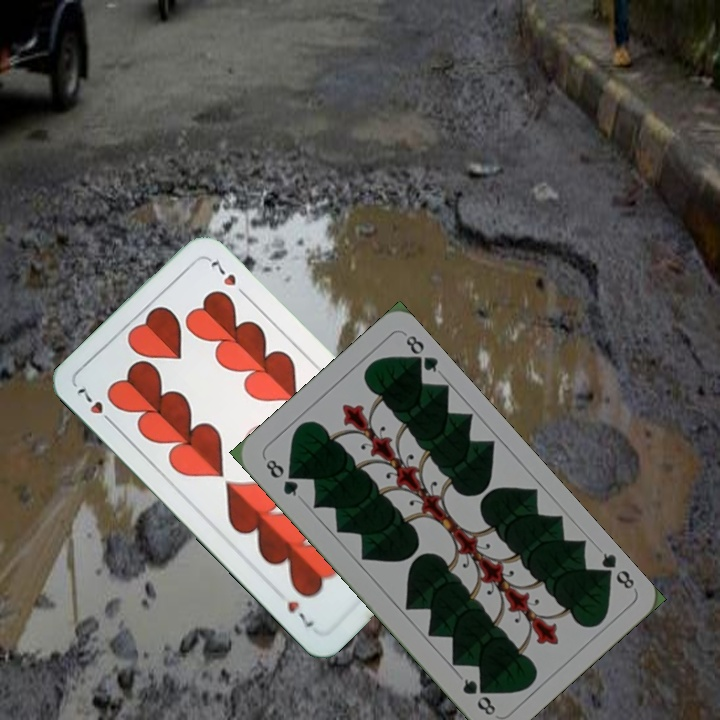G8: (593, 548, 637, 592), (260, 454, 301, 499)
H7: (73, 384, 118, 429)
